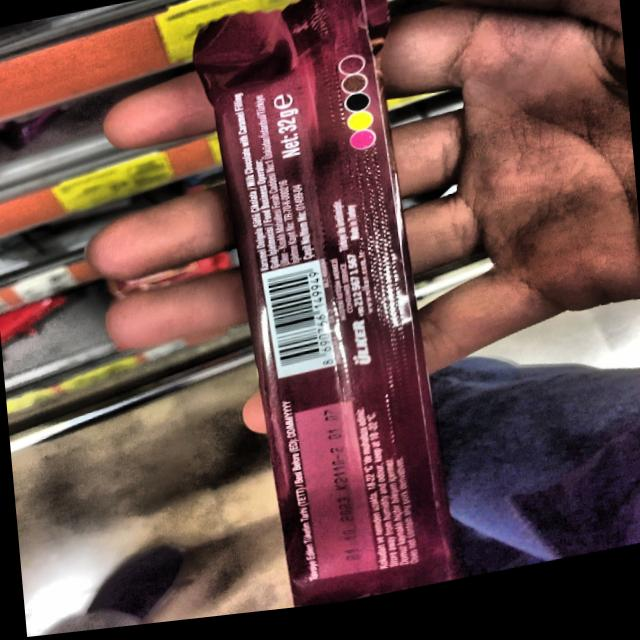Plastic: (188, 0, 466, 614)
